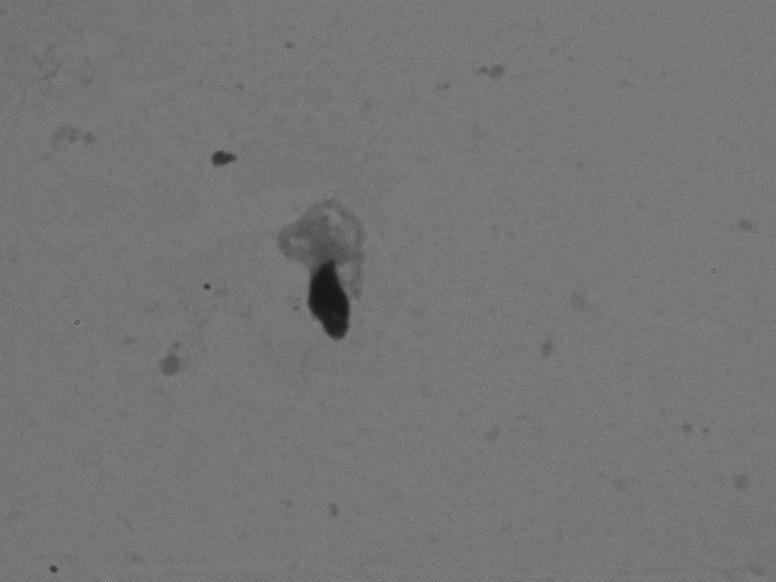Abnormal: (249, 149, 444, 376)
